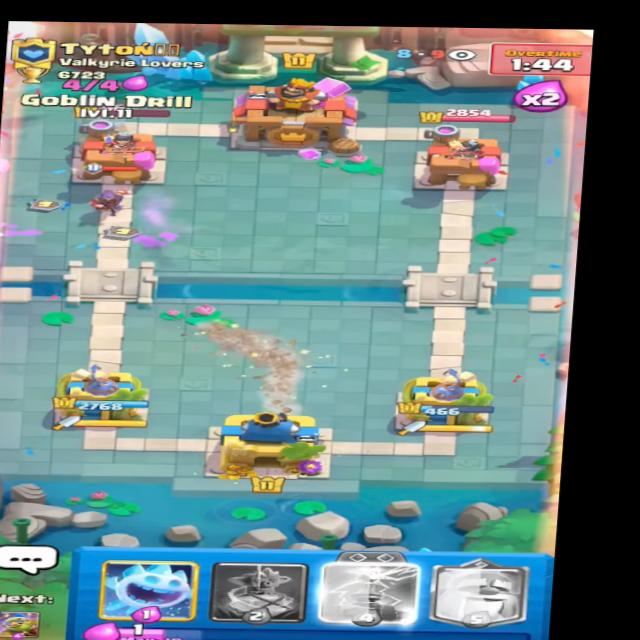evo-wizard: (76, 162, 162, 212)
